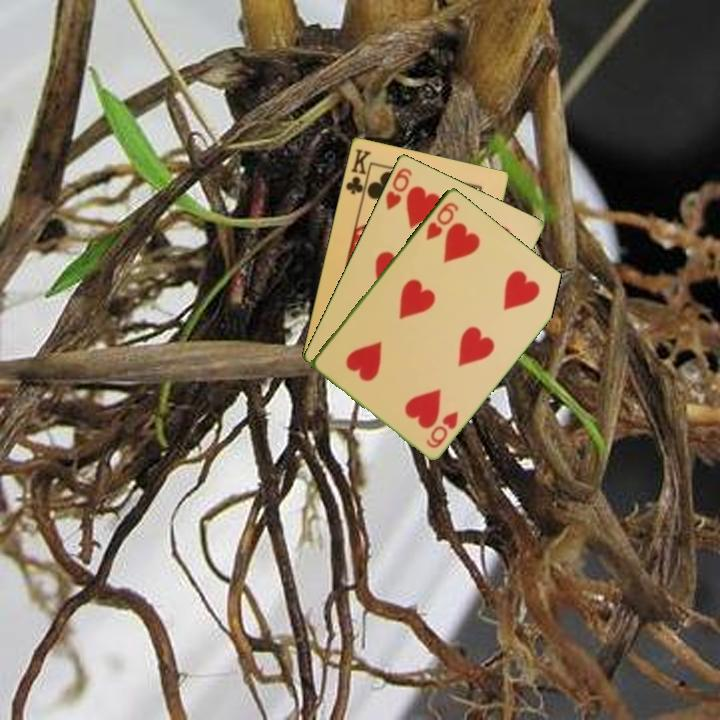6h: (422, 198, 461, 243), (422, 407, 461, 451), (382, 164, 415, 213)
Kc: (342, 145, 374, 201)
